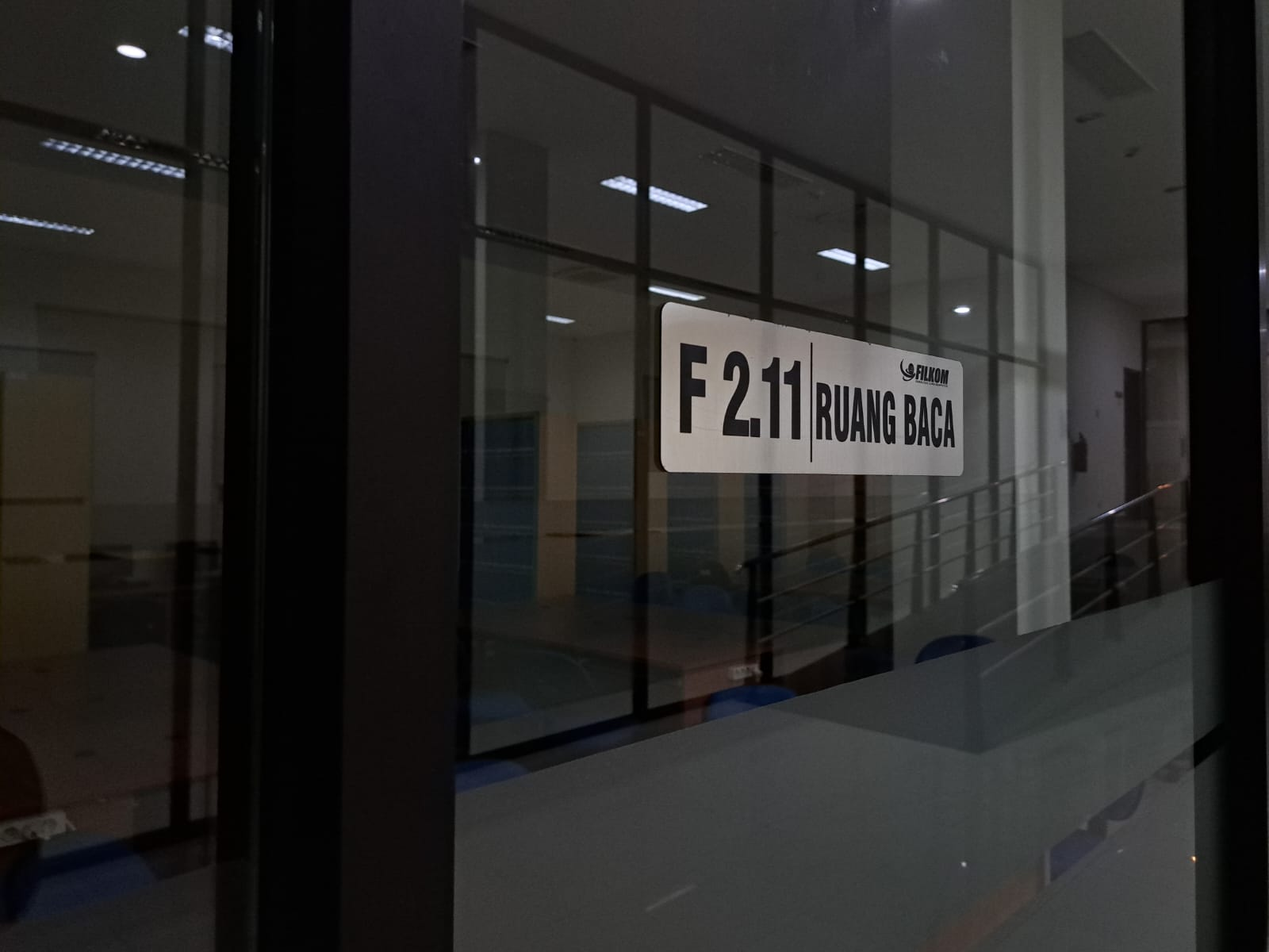ruangan: (646, 293, 968, 483)
